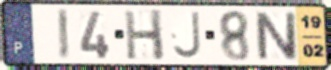4: (78, 8, 113, 61)
8: (217, 9, 252, 62)
H: (122, 8, 167, 62)
I: (55, 7, 71, 61)
J: (171, 10, 204, 61)
N: (252, 10, 300, 62)
